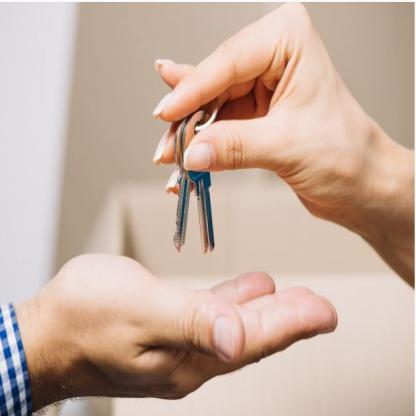keys: (172, 108, 217, 262)
